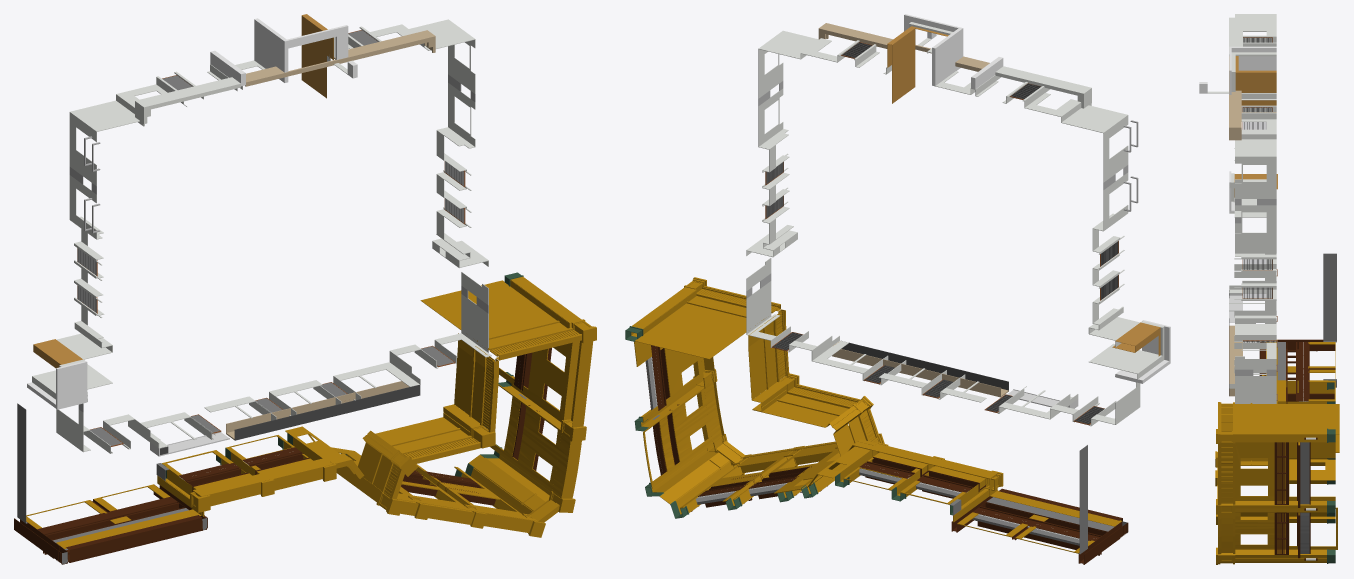
File: ifc_4_weld.obj
3 renders of one model, left to right at view 1: azimuth 30°, elevation 25°; view 2: azimuth 150°, elevation 25°; view 3: azimuth 270°, elevation 25°, orthographic. The views are drawn at different scales.
Visible parts, largest first — view 1: 2WjQNV5Yv9VBczJ4BBNkx_, 1gxend15P07B04fNGAyOHS, 3O1FxBw0fENAodCfyikD1C, 2Sxj0MdHj20eVF25ISV01J, 0JpcvfkOv54A_Rgf5ybSLM, 1R9AeBxXDEFA3JHjD8lcdv, 2tTS12uUjEZgQaG65Lz8$d, 3JC5$21tP6GfUwlWfhK50r, 0zl2oEf0f0uvNUoelCEX8R, 1R9AeBxXDEFA3JHjD8lcfi, 3ykhvsD7DAVf769GG15aSM, 3fTxqMmHnE0hd3NSNm8wCg (+22 smaller); view 2: 3O1FxBw0fENAodCfyikD1C, 1gxend15P07B04fNGAyOHS, 2WjQNV5Yv9VBczJ4BBNkx_, 2Sxj0MdHj20eVF25ISV01J, 3JC5$21tP6GfUwlWfhK50r, 2tTS12uUjEZgQaG65Lz8$d, 3ykhvsD7DAVf769GG15aSM, 1R9AeBxXDEFA3JHjD8lcdv, 1R9AeBxXDEFA3JHjD8lcfi, 2pqvqbziv0xe6c3PDa07Ib, 3ykhvsD7DAVf769GG15da0, 3fTxqMmHnE0hd3NSNm8wCe (+13 smaller); view 3: 2tTS12uUjEZgQaG65Lz8$d, 3O1FxBw0fENAodCfyikD1C, 1gxend15P07B04fNGAyOHS, 0FYu3m1L964vwJVVxNMGNs, 2pM7Y$7M5DtOy6kUYGR9tt, 0zl2oEf0f0uvNUoelCEX8R, 2WjQNV5Yv9VBczJ4BBNkx_, 3ykhvsD7DAVf769GG15da0, 3Fvii6rdH10Rd8COut4hHS, 3ykhvsD7DAVf769GG15aE5, 2WjQNV5Yv9VBczJ4BBNlzt, 2aTZlw0PT8NxV3YNitLwGN (+56 smaller).
Part boxes in pixels (box(x1,y1,x2,y2)): 2WjQNV5Yv9VBczJ4BBNkx_: box(135, 30, 435, 126); 1gxend15P07B04fNGAyOHS: box(490, 384, 570, 498); 3O1FxBw0fENAodCfyikD1C: box(420, 280, 556, 337); 2Sxj0MdHj20eVF25ISV01J: box(56, 453, 348, 548); 0JpcvfkOv54A_Rgf5ybSLM: box(66, 515, 202, 562); 1R9AeBxXDEFA3JHjD8lcdv: box(234, 384, 420, 440); 2tTS12uUjEZgQaG65Lz8$d: box(499, 342, 573, 420); 3JC5$21tP6GfUwlWfhK50r: box(37, 496, 179, 539); 0zl2oEf0f0uvNUoelCEX8R: box(563, 340, 593, 427); 1R9AeBxXDEFA3JHjD8lcfi: box(226, 381, 409, 433); 3ykhvsD7DAVf769GG15aSM: box(301, 16, 326, 98); 3fTxqMmHnE0hd3NSNm8wCg: box(56, 361, 87, 409); 3O1FxBw0fENAodCfyikD1C: box(635, 303, 755, 359); 1gxend15P07B04fNGAyOHS: box(643, 382, 721, 488); 2WjQNV5Yv9VBczJ4BBNkx_: box(818, 23, 1091, 108); 2Sxj0MdHj20eVF25ISV01J: box(848, 441, 1121, 526); 3JC5$21tP6GfUwlWfhK50r: box(972, 506, 1101, 545); 2tTS12uUjEZgQaG65Lz8$d: box(634, 341, 703, 421); 3ykhvsD7DAVf769GG15aSM: box(892, 29, 915, 103); 1R9AeBxXDEFA3JHjD8lcdv: box(841, 340, 1008, 391); 1R9AeBxXDEFA3JHjD8lcfi: box(832, 349, 1000, 397); 2pqvqbziv0xe6c3PDa07Ib: box(733, 443, 839, 499); 3ykhvsD7DAVf769GG15da0: box(932, 28, 961, 86); 3fTxqMmHnE0hd3NSNm8wCe: box(1089, 343, 1162, 373); 2tTS12uUjEZgQaG65Lz8$d: box(1235, 442, 1335, 500); 3O1FxBw0fENAodCfyikD1C: box(1252, 404, 1339, 434); 1gxend15P07B04fNGAyOHS: box(1235, 507, 1337, 549); 0FYu3m1L964vwJVVxNMGNs: box(1323, 253, 1336, 341); 2pM7Y$7M5DtOy6kUYGR9tt: box(1235, 376, 1276, 403); 0zl2oEf0f0uvNUoelCEX8R: box(1218, 442, 1235, 504); 2WjQNV5Yv9VBczJ4BBNkx_: box(1229, 17, 1242, 140); 3ykhvsD7DAVf769GG15da0: box(1231, 46, 1276, 70); 3Fvii6rdH10Rd8COut4hHS: box(1297, 442, 1310, 507); 3ykhvsD7DAVf769GG15aE5: box(1235, 72, 1276, 92); 2WjQNV5Yv9VBczJ4BBNlzt: box(1235, 139, 1276, 156); 2aTZlw0PT8NxV3YNitLwGN: box(1218, 513, 1235, 554).
Bounding box in the file's own units: 43.86 × 43.15 × 12.9.
